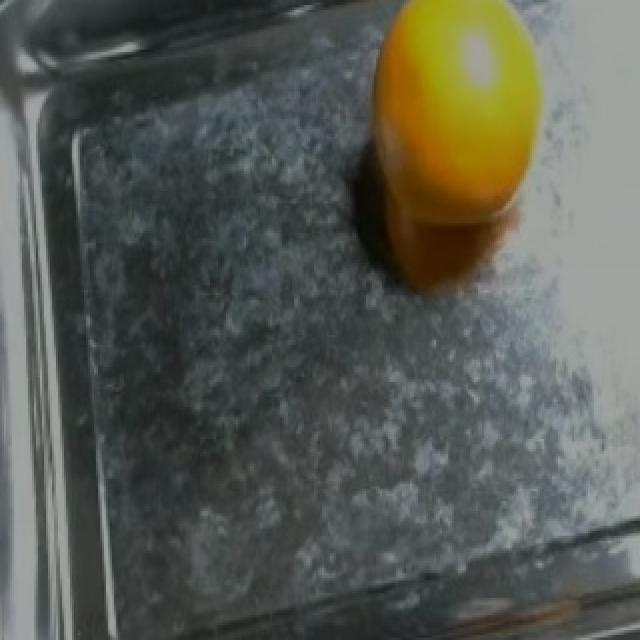Fruit: (330, 0, 572, 295)
